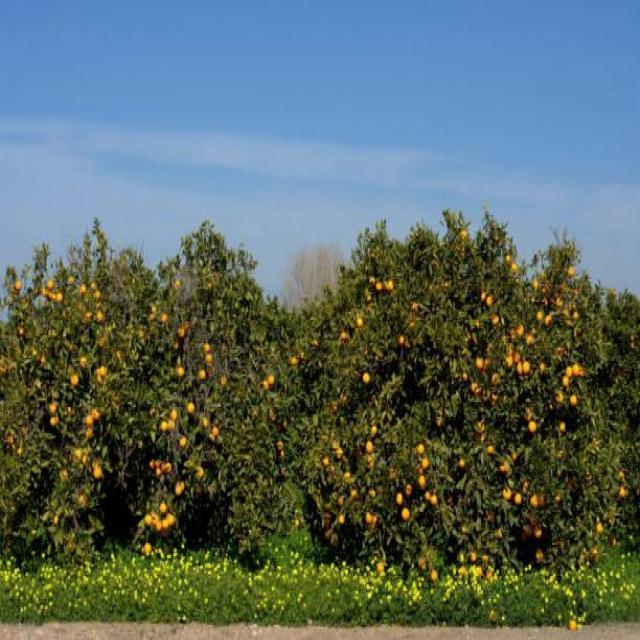Jeruk Sudah Matang: (92, 464, 102, 480), (178, 435, 188, 445), (514, 492, 522, 504), (504, 489, 512, 501), (402, 507, 410, 519), (421, 458, 429, 470), (418, 476, 426, 488), (362, 372, 370, 384), (364, 441, 372, 453), (366, 456, 374, 468), (160, 502, 168, 514), (71, 374, 79, 386), (164, 462, 173, 472), (85, 415, 94, 425), (531, 496, 538, 508), (406, 482, 412, 496), (176, 482, 183, 494), (56, 292, 63, 304), (528, 422, 536, 432), (570, 396, 578, 406), (572, 364, 580, 374), (522, 362, 530, 372), (506, 356, 514, 366), (476, 360, 484, 370), (386, 280, 394, 290), (336, 448, 344, 458), (268, 374, 276, 384), (187, 402, 195, 412), (198, 369, 206, 379), (167, 515, 175, 525), (472, 380, 478, 392), (204, 354, 213, 362), (162, 518, 168, 530), (620, 488, 627, 498), (597, 524, 604, 534), (511, 262, 518, 272), (418, 444, 425, 454), (398, 334, 405, 344), (396, 494, 403, 504), (351, 489, 358, 499), (356, 316, 363, 326), (219, 378, 226, 388), (177, 368, 184, 378), (157, 518, 162, 532), (145, 515, 152, 525), (79, 284, 86, 294), (566, 368, 574, 376), (562, 376, 570, 384), (544, 315, 552, 323), (535, 312, 543, 320), (491, 317, 499, 325), (430, 496, 438, 504), (160, 422, 168, 430), (49, 404, 57, 412), (46, 280, 54, 288), (96, 312, 104, 320), (518, 362, 523, 374), (568, 268, 574, 278), (518, 325, 524, 335), (478, 424, 484, 434), (366, 514, 372, 524), (168, 418, 174, 428), (152, 515, 158, 525), (100, 366, 106, 376), (85, 312, 91, 322), (375, 282, 382, 290), (371, 425, 378, 433), (262, 381, 269, 389), (15, 280, 22, 288), (69, 276, 74, 286), (486, 297, 493, 304), (212, 428, 219, 435), (178, 328, 184, 336), (93, 411, 99, 418), (526, 335, 531, 343), (462, 230, 466, 240), (324, 456, 328, 466), (339, 516, 344, 524), (204, 344, 209, 352), (162, 314, 167, 322), (560, 424, 564, 432), (534, 280, 538, 288), (481, 292, 485, 300), (488, 445, 492, 453), (426, 492, 430, 500), (98, 376, 102, 384), (506, 254, 510, 261), (172, 411, 176, 418)
